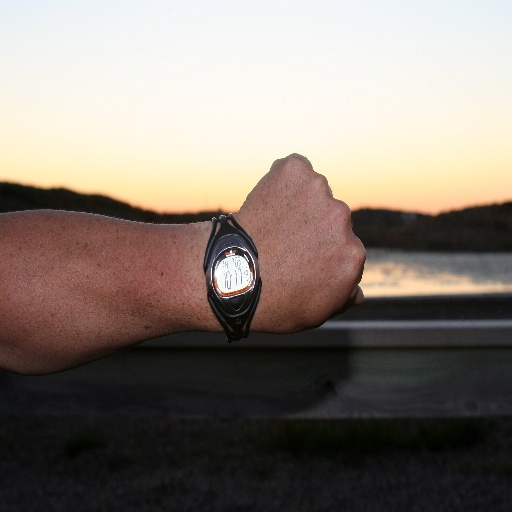hand: (234, 150, 366, 335)
